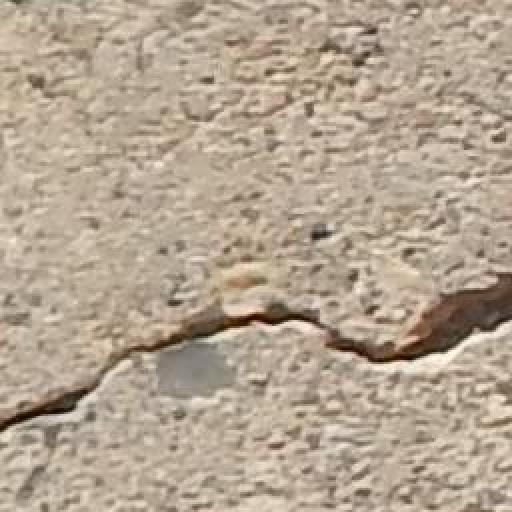spalling: (1, 263, 512, 446)
